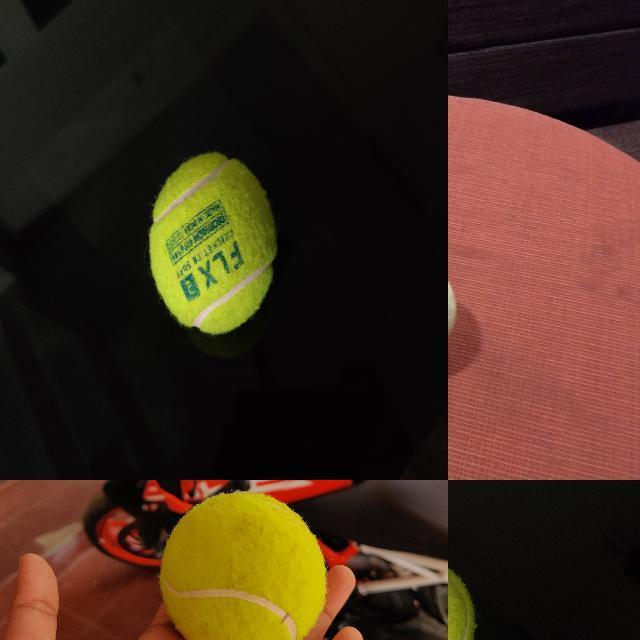tennis-ball: (158, 492, 328, 639), (149, 152, 277, 334)
